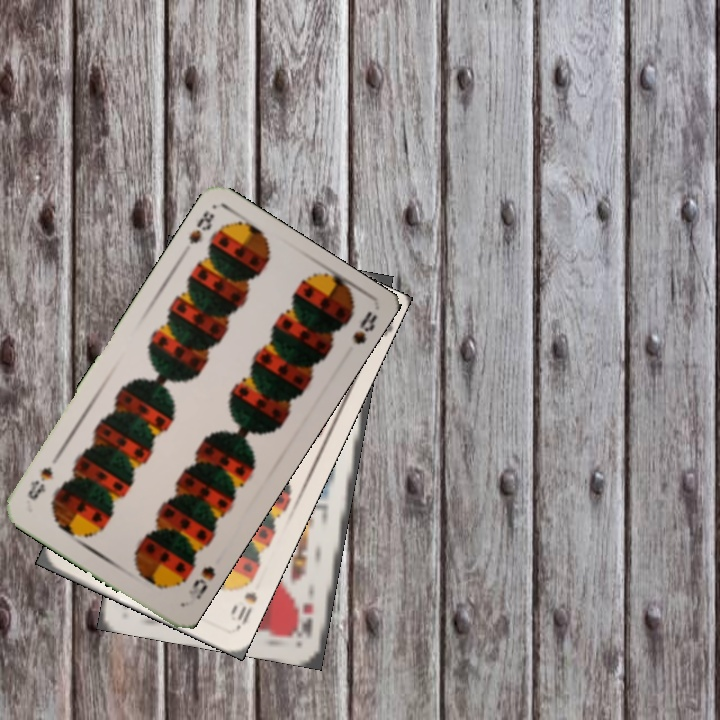HK: (297, 598, 317, 641)
S10: (226, 572, 260, 630)
S8: (182, 562, 218, 606), (184, 206, 218, 247)
